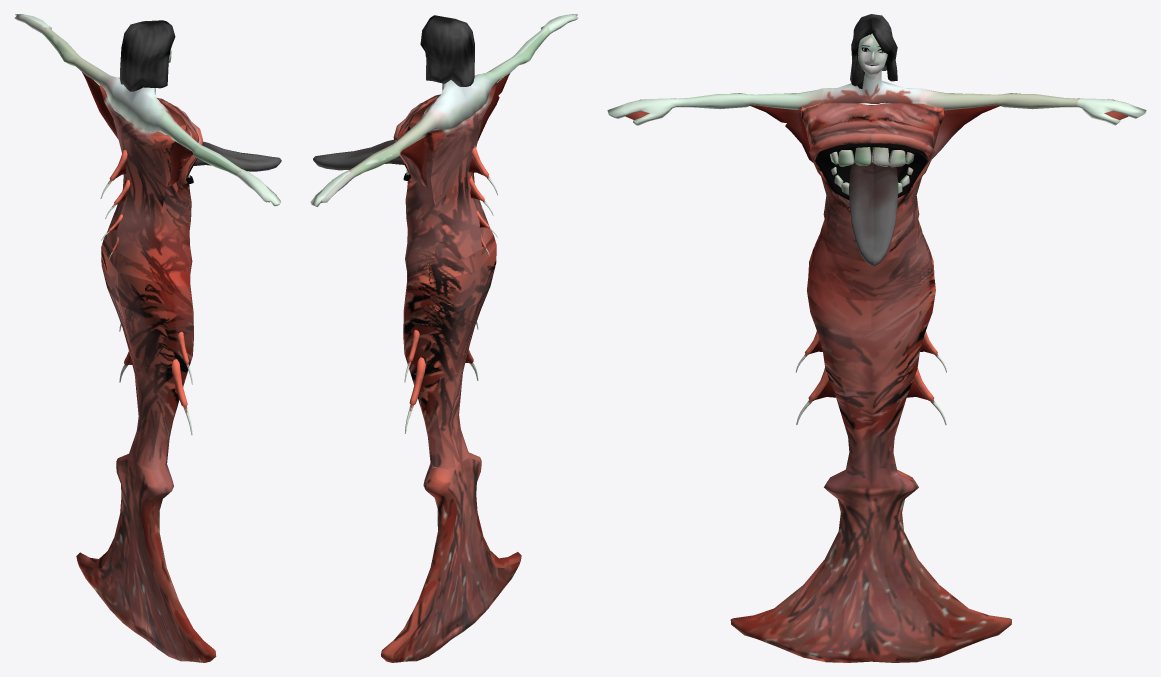
Rendered from loretta03.fbx.
3 views of the same model, side by side, from view 1: azimuth 30°, elevation 25°; view 2: azimuth 150°, elevation 25°; view 3: azimuth 270°, elevation 25° (orthographic). The views are drawn at different scales.
Visible parts, largest first — view 1: lpFemale_casual_G.007; view 2: lpFemale_casual_G.007; view 3: lpFemale_casual_G.007.
Part boxes in pixels (box(x1,y1,x2,y2)): lpFemale_casual_G.007: box(14, 14, 281, 662); lpFemale_casual_G.007: box(310, 14, 578, 662); lpFemale_casual_G.007: box(607, 14, 1146, 662).
Bounding box in the file's own units: 9183 × 29760 × 22715.
Materials: 1 (1 with a texture image).
